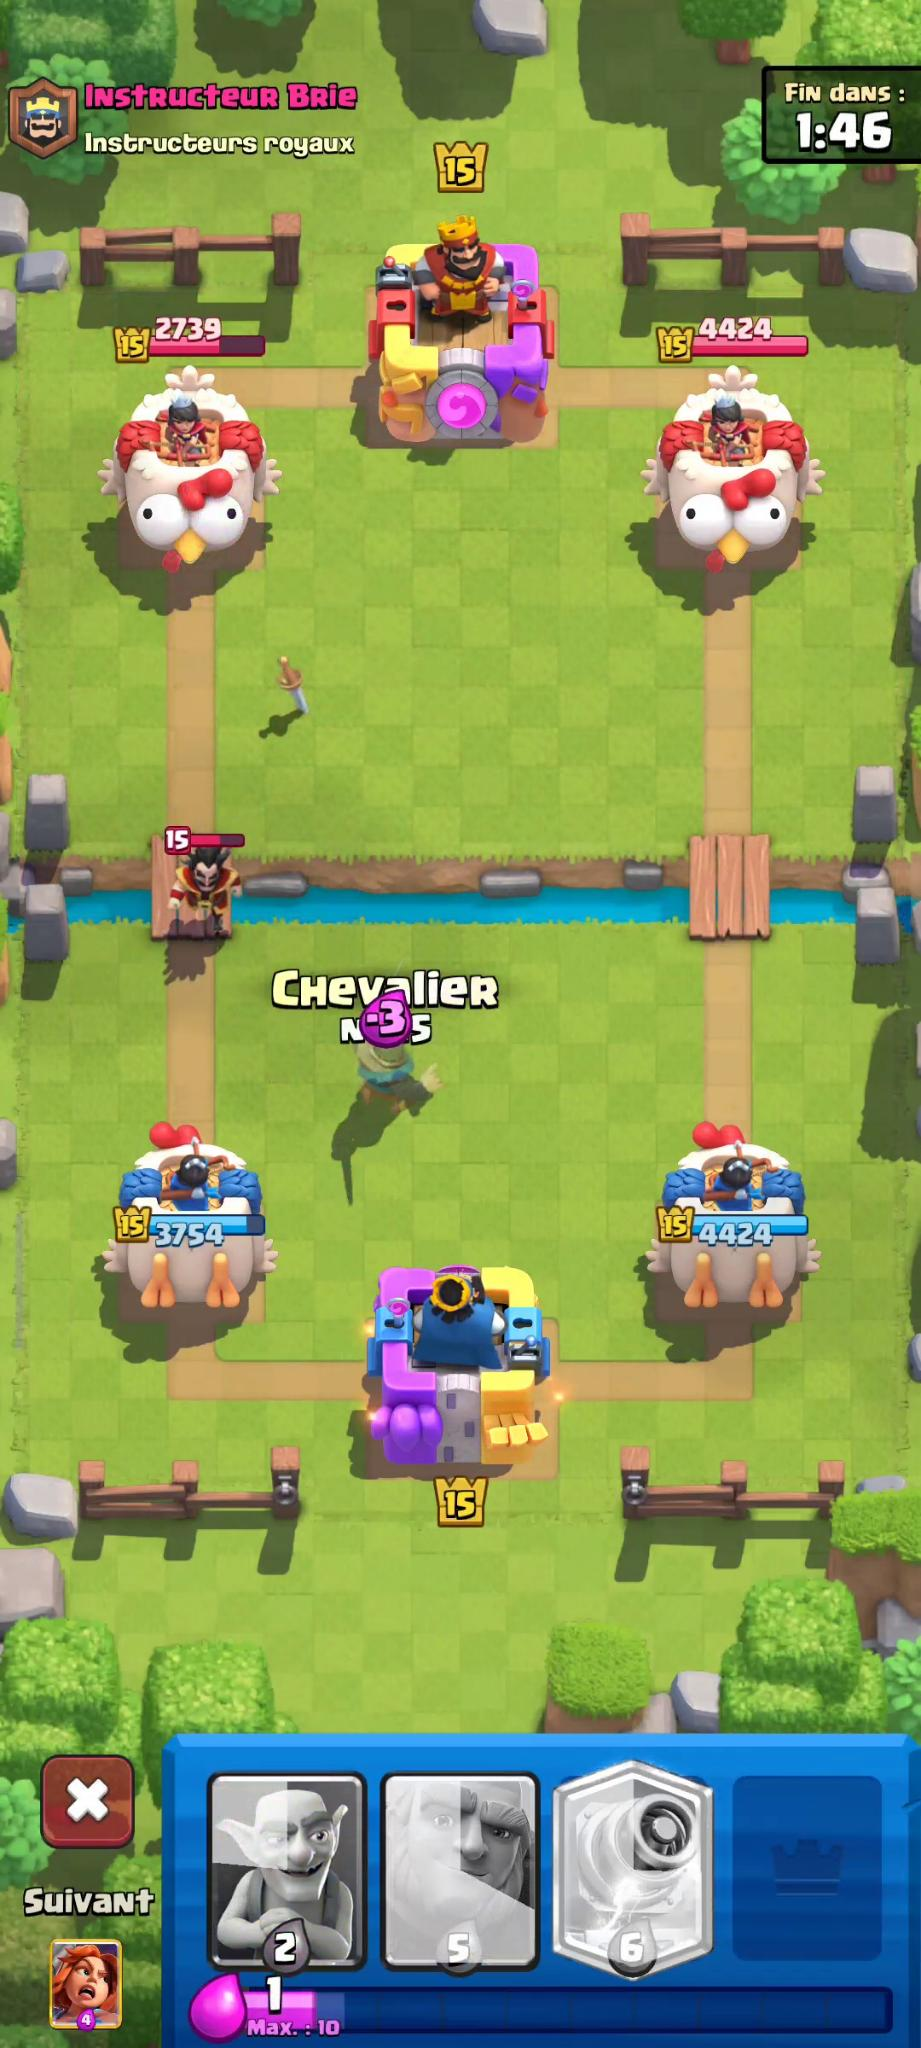chevalier: (344, 1008, 432, 1117)
